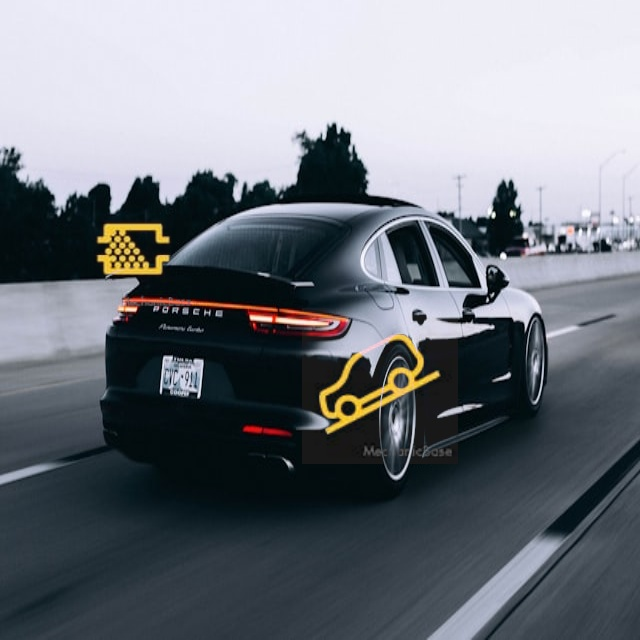symbol: (302, 308, 458, 464), (72, 188, 196, 312)
